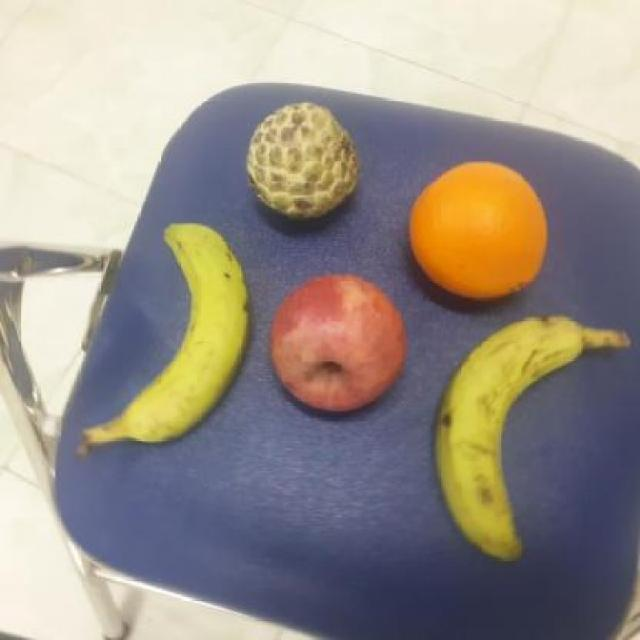apple: (265, 272, 410, 417)
banana: (434, 312, 584, 563), (118, 218, 252, 444)
oren: (404, 158, 547, 300)
sugar apple: (242, 101, 364, 225)
